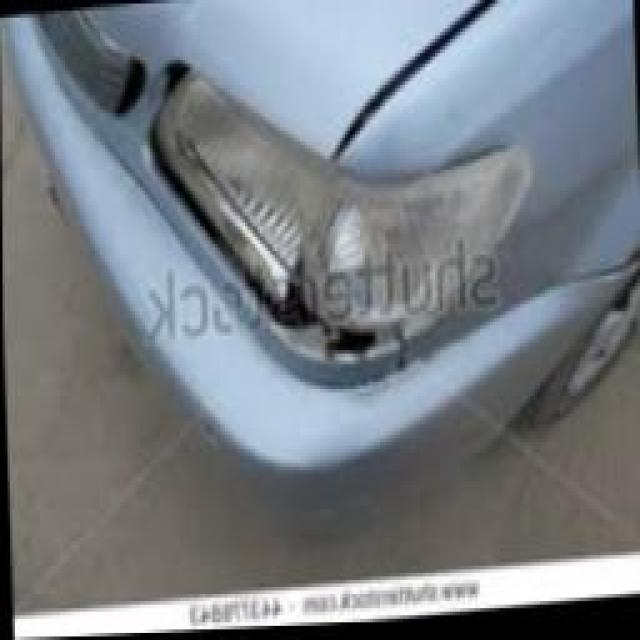Light: (151, 67, 528, 373)
